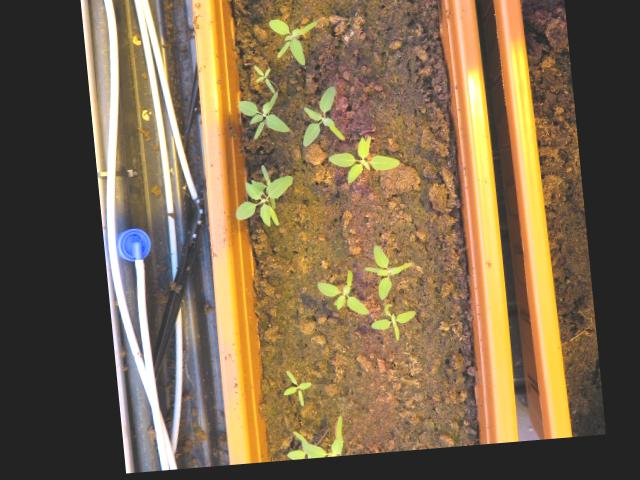weed: (351, 246, 411, 310), (292, 91, 346, 154), (264, 20, 321, 75), (267, 370, 307, 415)
